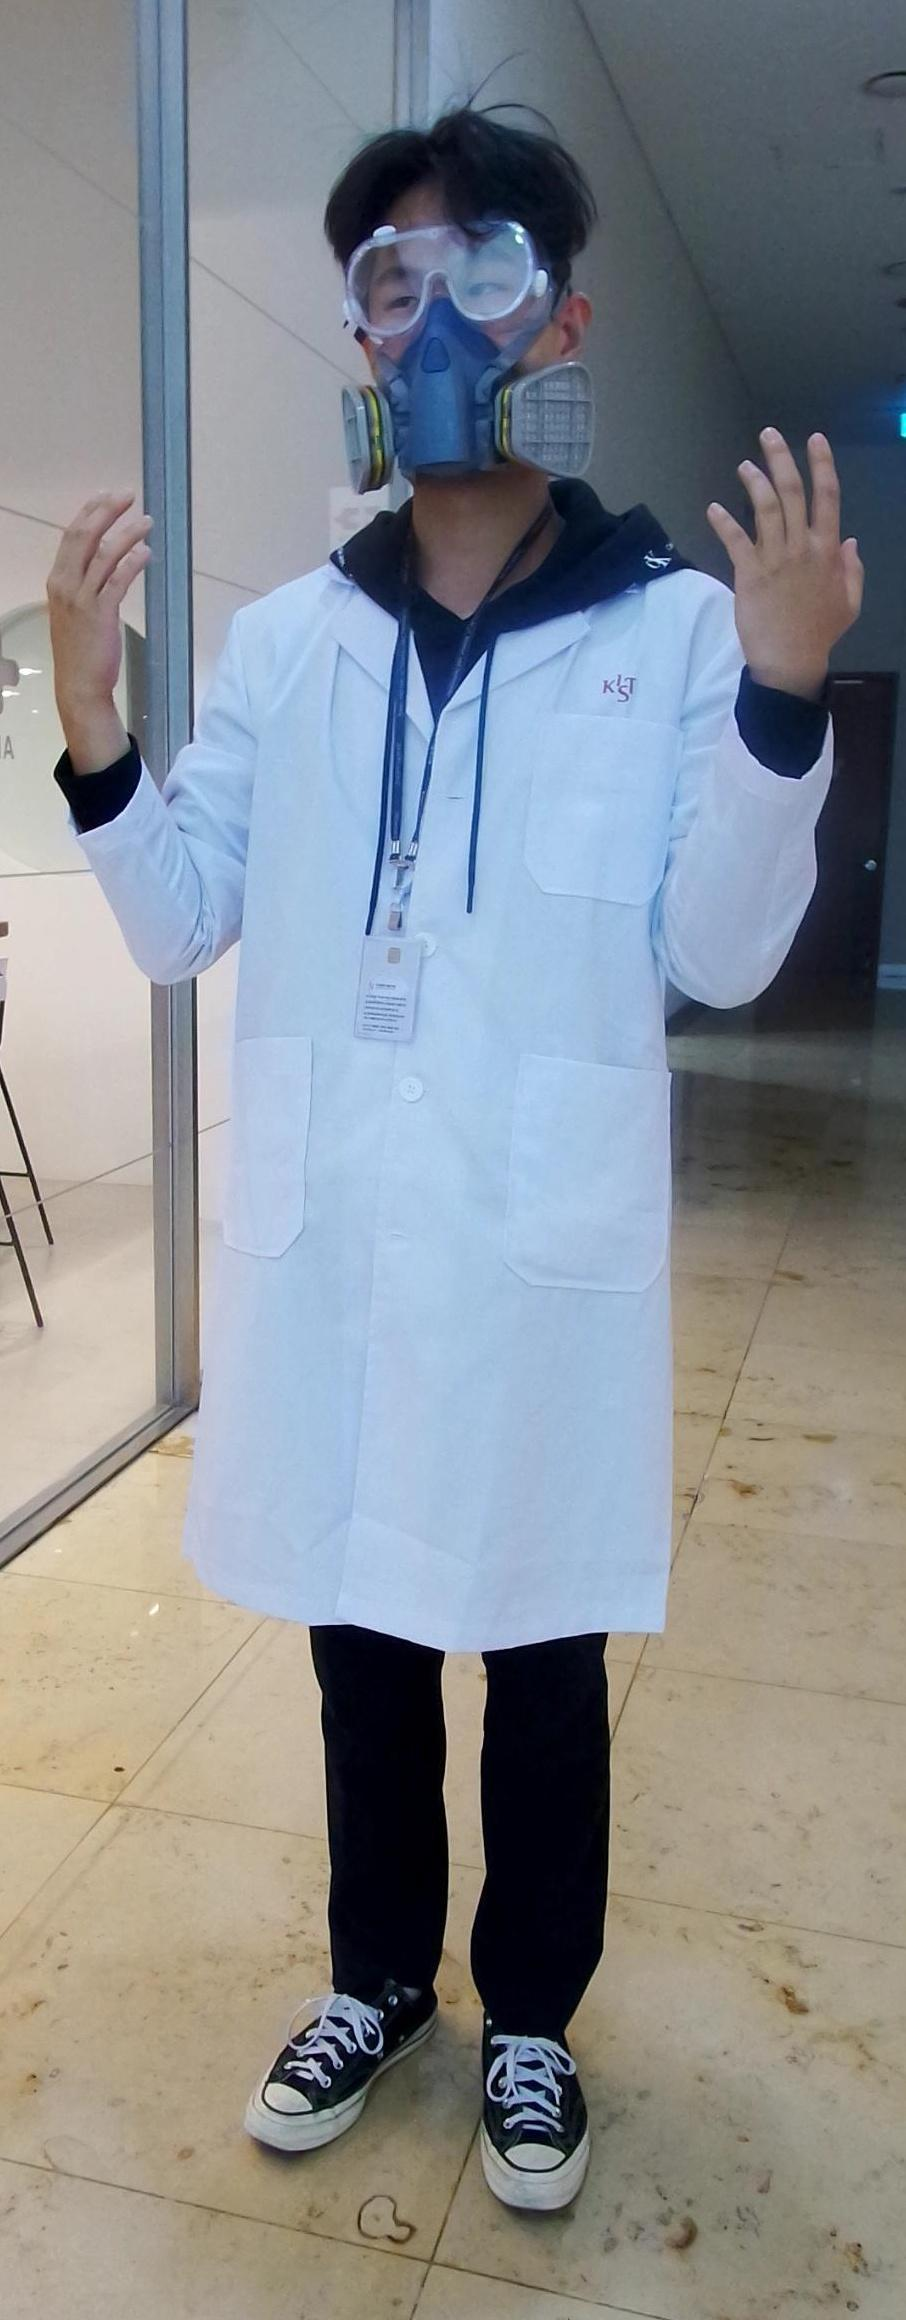lab_coat: (172, 596, 725, 1656)
